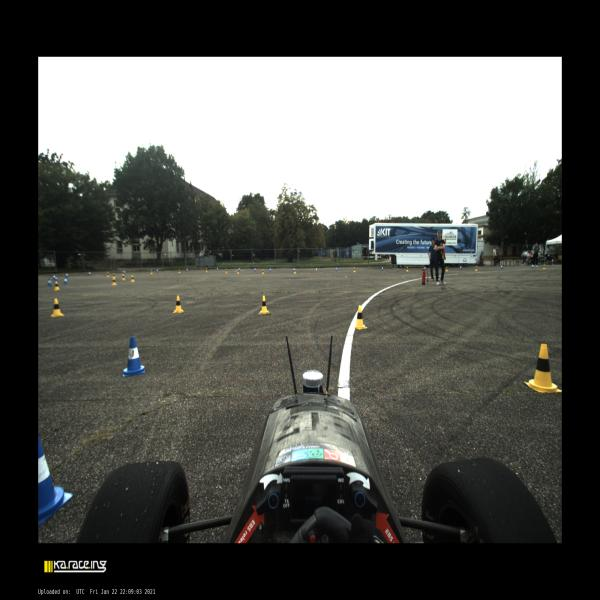blue_cone: (38, 432, 73, 528), (122, 336, 146, 377), (46, 278, 53, 286), (63, 277, 68, 284), (52, 274, 56, 280), (65, 272, 69, 278), (55, 275, 58, 281), (88, 270, 91, 276), (238, 266, 241, 272), (381, 265, 384, 271), (500, 264, 503, 269), (531, 263, 534, 268), (123, 270, 126, 274), (156, 268, 158, 274), (335, 267, 338, 271), (254, 267, 256, 272), (460, 265, 462, 270), (186, 268, 188, 272), (216, 267, 218, 271), (269, 268, 271, 272), (293, 268, 294, 272)
yellow_cone: (524, 344, 562, 393), (50, 298, 65, 318), (355, 305, 367, 329), (258, 296, 270, 314), (173, 296, 184, 313), (53, 280, 61, 290), (112, 276, 117, 286), (121, 274, 126, 281), (131, 275, 135, 282), (106, 271, 110, 278), (112, 272, 116, 278), (542, 264, 546, 270), (150, 269, 153, 275), (178, 268, 181, 274), (205, 267, 208, 273), (225, 268, 228, 273), (353, 267, 356, 272), (475, 266, 478, 271), (122, 270, 124, 276), (237, 268, 239, 274), (262, 268, 264, 274), (294, 268, 296, 274), (406, 266, 408, 272), (446, 266, 448, 272)
